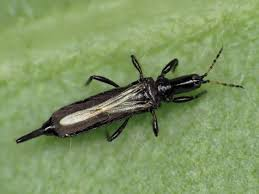Phlaeothripidae: (14, 44, 244, 145)
